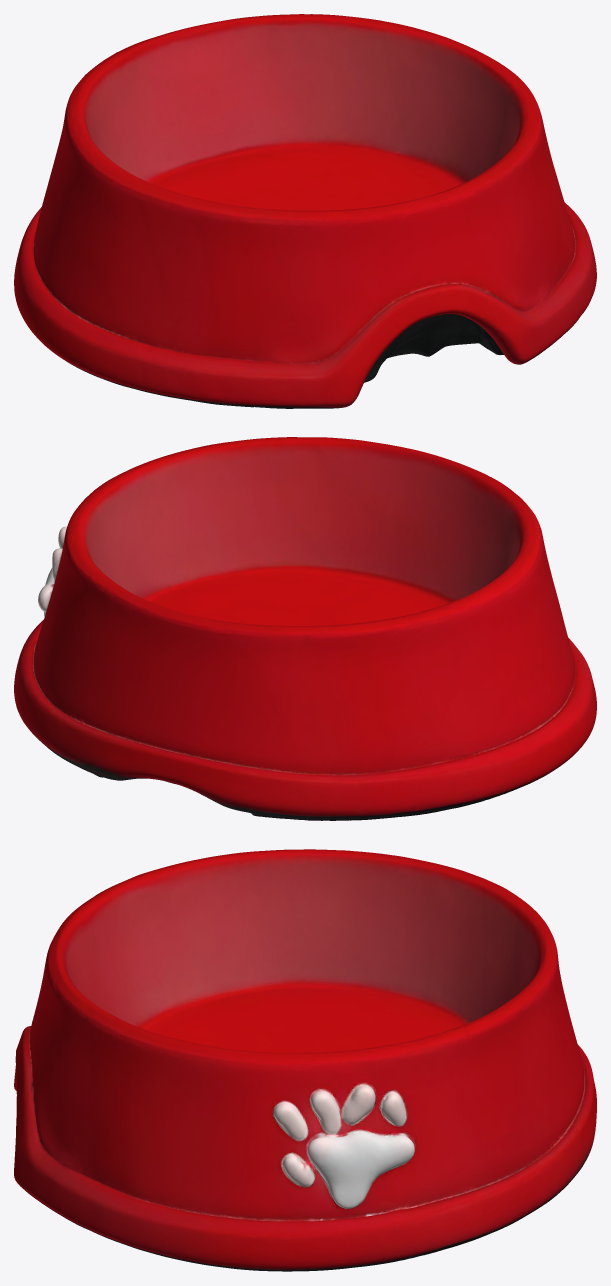
File: producto4.fbx
3 views of the same model, one above another, from view 1: azimuth 30°, elevation 25°; view 2: azimuth 150°, elevation 25°; view 3: azimuth 270°, elevation 25° (orthographic). The views are drawn at different scales.
Parts seen in each view (by area): view 1: tripo_node_9729fae8; view 2: tripo_node_9729fae8; view 3: tripo_node_9729fae8.
Boxes of the visible parts, box(x1,y1,x2,y2) form: tripo_node_9729fae8: box(14, 14, 596, 408); tripo_node_9729fae8: box(14, 437, 596, 820); tripo_node_9729fae8: box(14, 849, 596, 1271).
Bounding box in the file's own units: 1 × 0.3423 × 0.9193.
1 material, 1 textured.
